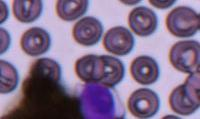L: (79, 80, 125, 118)
